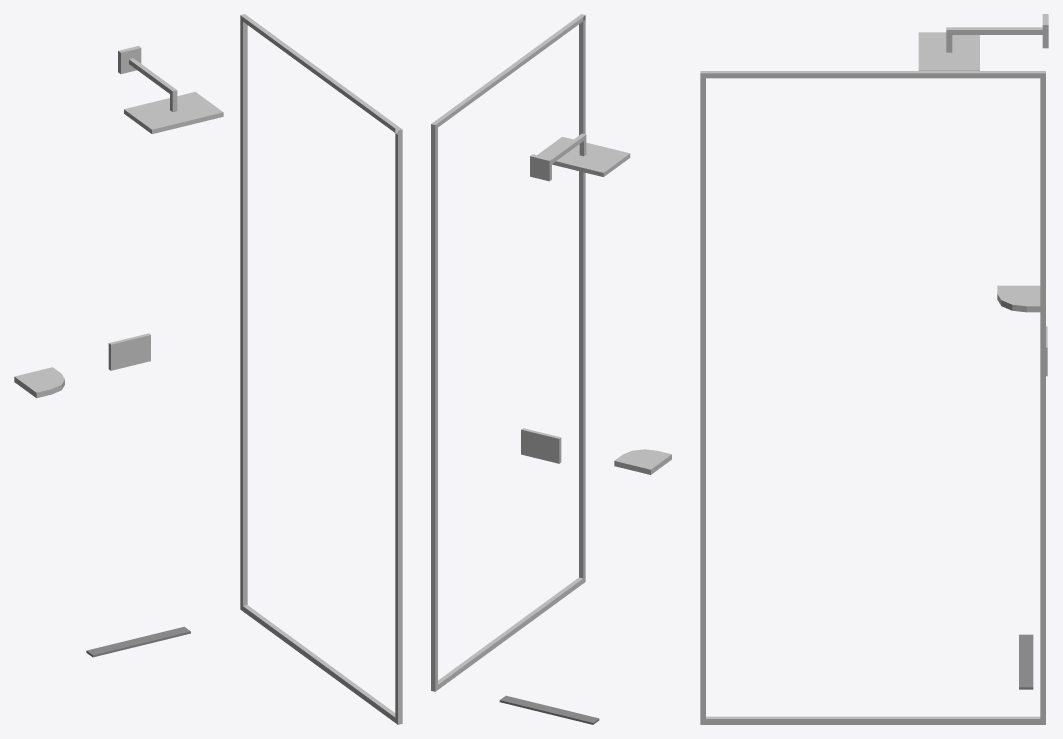
Rendered from Shower3_C1.fbx.
3 renders of one model, left to right at view 1: azimuth 30°, elevation 25°; view 2: azimuth 150°, elevation 25°; view 3: azimuth 270°, elevation 25°, orthographic. The views are drawn at different scales.
Visible parts, largest first — view 1: Shower3_C1; view 2: Shower3_C1; view 3: Shower3_C1.
Boxes of the visible parts, left/top/right/bottom form: Shower3_C1: left=14, top=14, right=402, bottom=724; Shower3_C1: left=431, top=14, right=671, bottom=724; Shower3_C1: left=700, top=14, right=1048, bottom=724.
Bounding box in the file's own units: 90 × 222 × 108.
